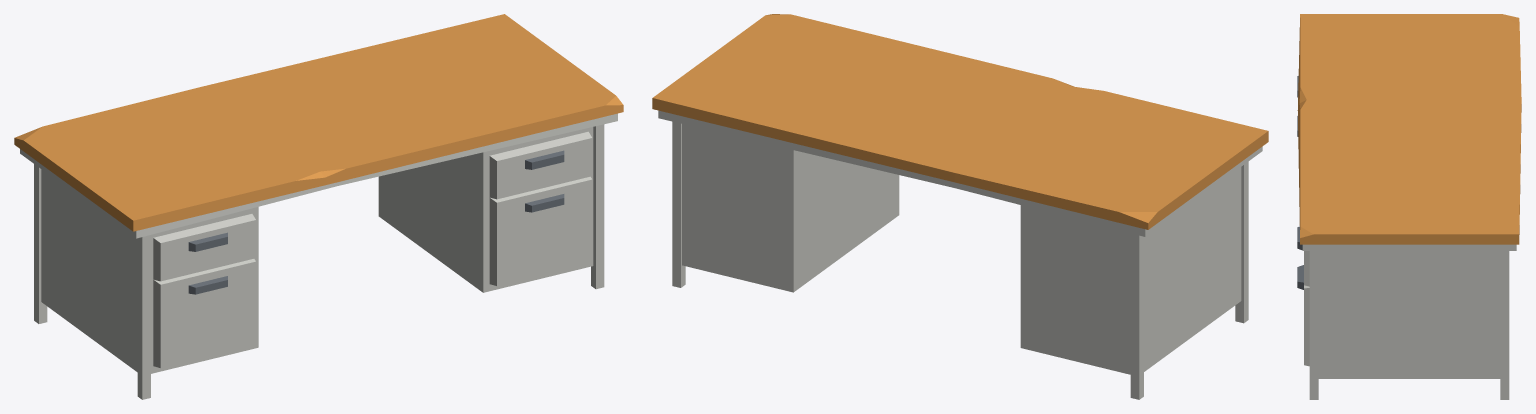
Rendered from Desk.FBX.
3 views of the same model, side by side, from view 1: azimuth 30°, elevation 25°; view 2: azimuth 150°, elevation 25°; view 3: azimuth 270°, elevation 25° (orthographic). The views are drawn at different scales.
Parts seen in each view (by area): view 1: Desk; view 2: Desk; view 3: Desk.
Part boxes in pixels (x1,y1,x2,y2): Desk: [14, 14, 623, 399]; Desk: [652, 14, 1268, 399]; Desk: [1297, 14, 1521, 399].
Size of the model in its own units: 206 by 75 by 88.63.
